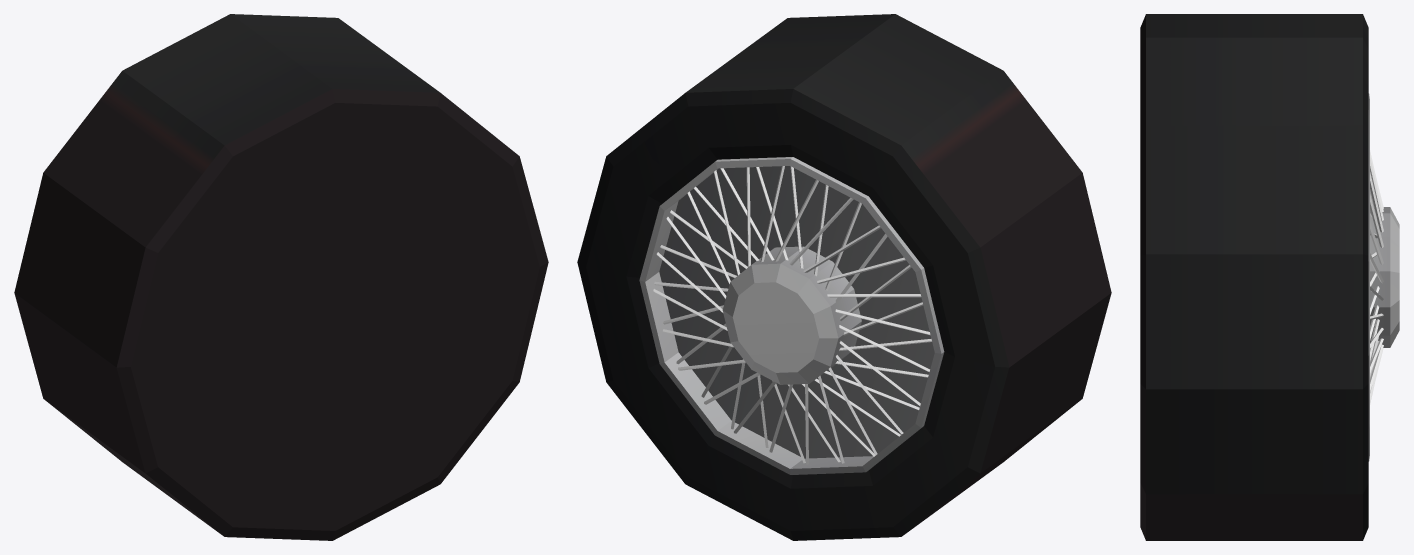
Rendered from wheel.glb.
3 renders of one model, left to right at view 1: azimuth 30°, elevation 25°; view 2: azimuth 150°, elevation 25°; view 3: azimuth 270°, elevation 25°, orthographic. The views are drawn at different scales.
Visible parts, largest first — view 1: Tire_front_L_3; view 2: Tire_front_L_3; view 3: Tire_front_L_3.
Boxes of the visible parts, x1=… form: Tire_front_L_3: x1=14, y1=14, x2=548, y2=540; Tire_front_L_3: x1=577, y1=14, x2=1111, y2=540; Tire_front_L_3: x1=1140, y1=14, x2=1399, y2=540.
Size of the model in its own units: 0.6006 by 0.6006 by 0.2945.
1 material, 1 textured.
